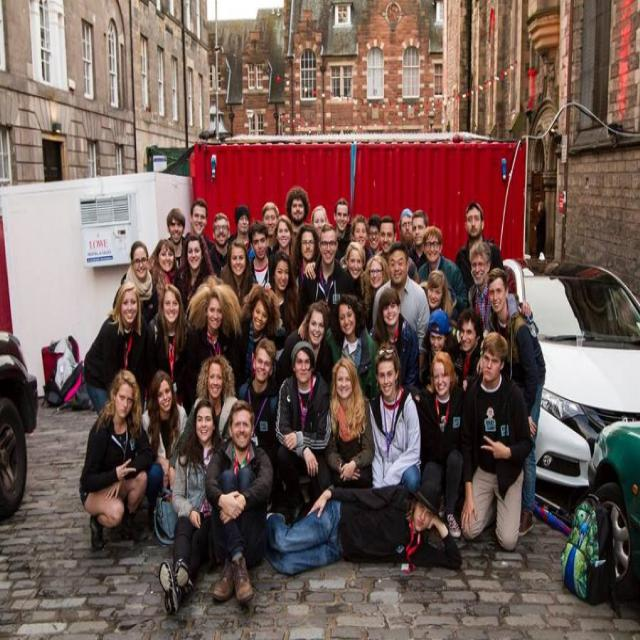body: (249, 480, 464, 577), (456, 330, 536, 556), (483, 264, 548, 538), (202, 397, 274, 608), (76, 367, 156, 552), (158, 399, 223, 620), (416, 348, 471, 540), (274, 339, 331, 524), (83, 280, 149, 417), (367, 338, 423, 496), (139, 368, 190, 533), (170, 353, 237, 467), (320, 355, 376, 491), (372, 243, 432, 361), (142, 282, 196, 412), (185, 276, 245, 391), (467, 237, 534, 335), (372, 287, 422, 408), (324, 293, 380, 400), (235, 336, 281, 462), (275, 298, 334, 396), (298, 222, 355, 319), (238, 282, 288, 386), (454, 198, 506, 294), (416, 225, 470, 314), (176, 232, 216, 344), (112, 240, 160, 324), (364, 216, 421, 285), (304, 240, 368, 300), (268, 248, 302, 360), (215, 235, 259, 309), (146, 237, 183, 322), (419, 306, 463, 372), (453, 307, 485, 394), (282, 185, 312, 274), (360, 254, 392, 336), (182, 197, 218, 266), (290, 222, 322, 293), (418, 268, 457, 322), (338, 214, 374, 272), (269, 214, 298, 282), (247, 223, 274, 288), (251, 200, 280, 260), (165, 206, 186, 288), (330, 196, 354, 262), (224, 203, 255, 254), (406, 208, 429, 273), (208, 211, 231, 275), (364, 216, 382, 264), (398, 206, 416, 245), (310, 204, 329, 238)
